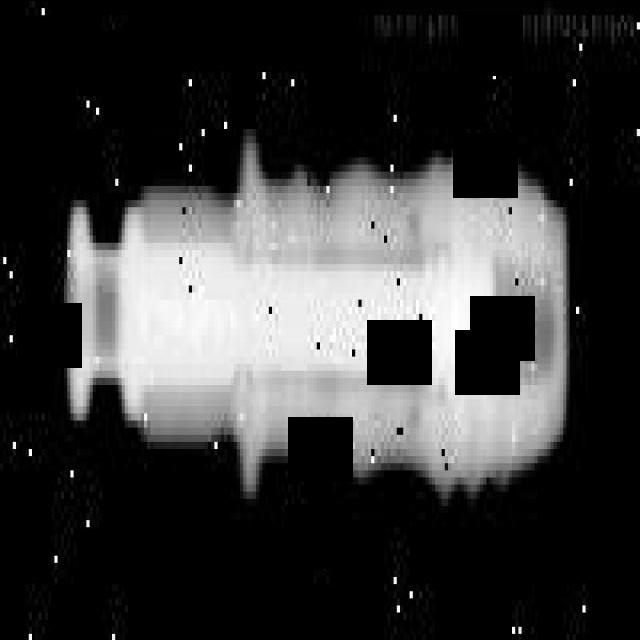Titan Implant Implant: (60, 132, 574, 510)
